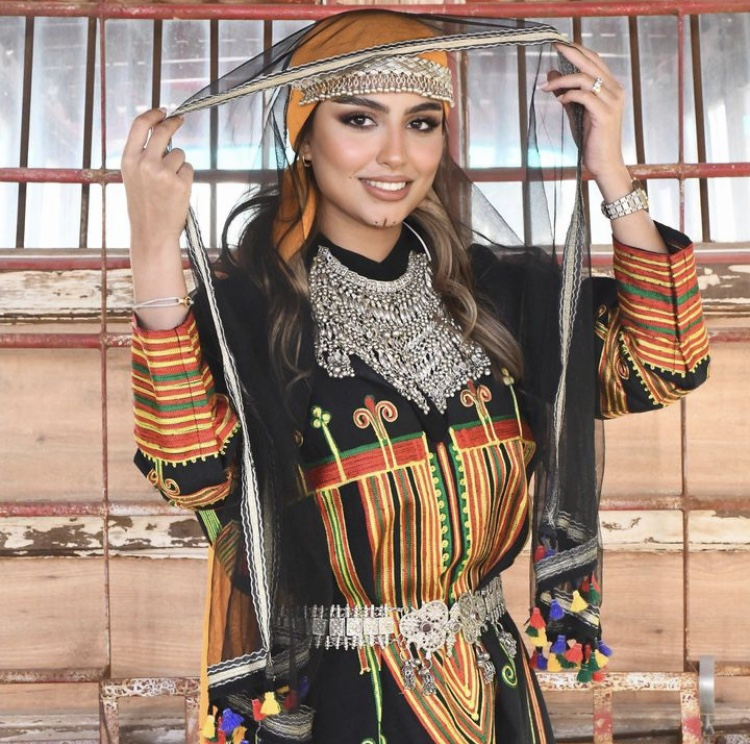Saudi_Founding_Day: (119, 5, 713, 744)
